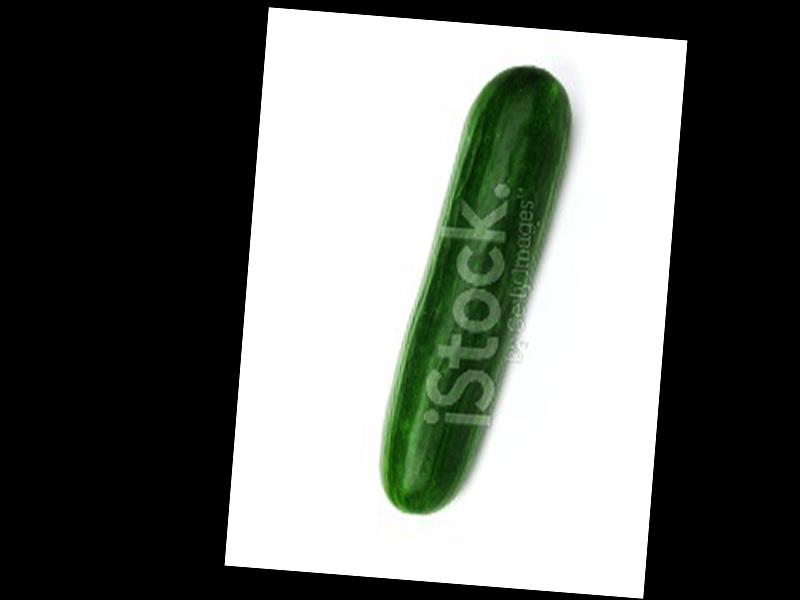Cucumber: (377, 55, 574, 525)
